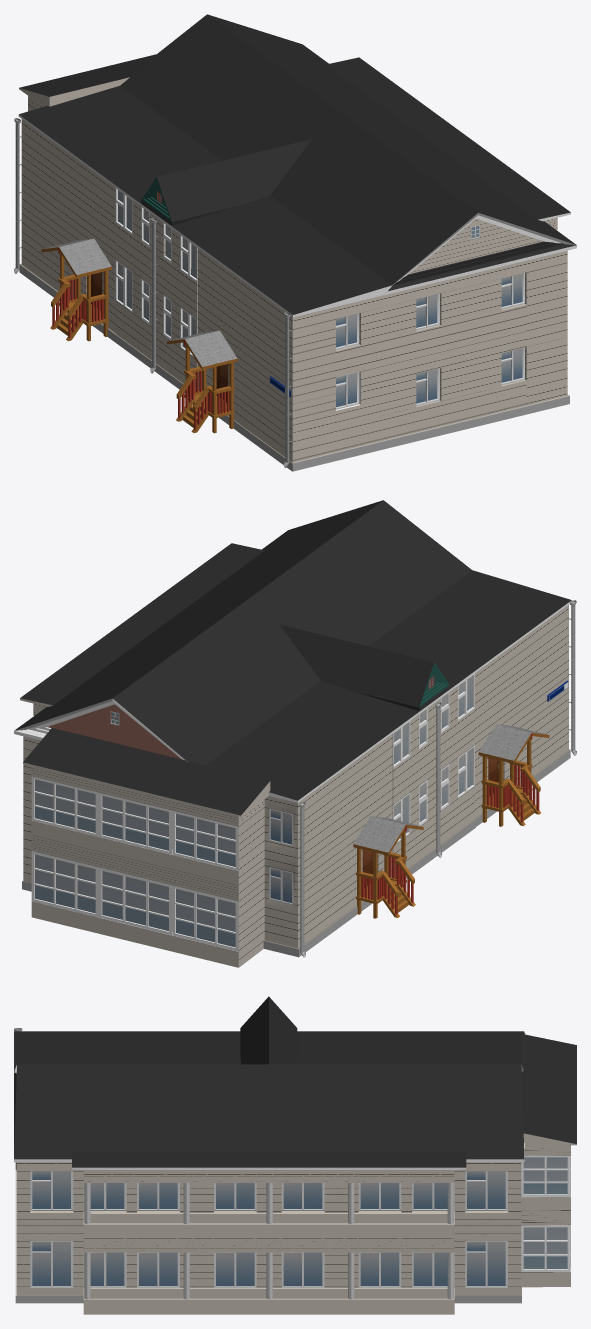
3 views of the same model, one above another, from view 1: azimuth 30°, elevation 25°; view 2: azimuth 150°, elevation 25°; view 3: azimuth 270°, elevation 25° (orthographic). The views are drawn at different scales.
Visible parts, largest first — view 1: DOM_5, Krysha_9, Krysha_pristrojka_11, 2173_obj.001_2, DOM.004_10, Plane.007_3, Plane.008_4; view 2: DOM_5, Krysha_9, Krysha_pristrojka_11, 2173_obj.001_2, DOM.004_10, DOM.003_8, DOM.002_7, Plane.007_3, Plane.008_4; view 3: DOM_5, Krysha_9, Krysha_pristrojka_11, DOM.004_10, Cylinder.009_1, DOM.001_6.
Part boxes in pixels (bbox=[...]): DOM_5: bbox=[19, 54, 569, 471]; Krysha_9: bbox=[120, 14, 576, 295]; Krysha_pristrojka_11: bbox=[18, 86, 392, 317]; 2173_obj.001_2: bbox=[41, 238, 237, 433]; DOM.004_10: bbox=[326, 57, 570, 221]; Plane.007_3: bbox=[14, 118, 21, 273]; Plane.008_4: bbox=[150, 217, 157, 373]; DOM_5: bbox=[22, 600, 576, 967]; Krysha_9: bbox=[14, 500, 472, 765]; Krysha_pristrojka_11: bbox=[206, 570, 571, 802]; 2173_obj.001_2: bbox=[353, 724, 549, 918]; DOM.004_10: bbox=[20, 543, 264, 706]; DOM.003_8: bbox=[269, 867, 293, 904]; DOM.002_7: bbox=[269, 808, 293, 846]; Plane.007_3: bbox=[297, 802, 305, 957]; Plane.008_4: bbox=[434, 702, 441, 857]; DOM_5: bbox=[14, 996, 576, 1314]; Krysha_9: bbox=[14, 1064, 524, 1162]; Krysha_pristrojka_11: bbox=[14, 1031, 524, 1073]; DOM.004_10: bbox=[72, 1151, 466, 1169]; Cylinder.009_1: bbox=[84, 1183, 453, 1299]; DOM.001_6: bbox=[465, 1171, 507, 1210].
Bounding box in the file's own units: 23.14 × 13.71 × 35.29.
100 materials, 8 textured.
